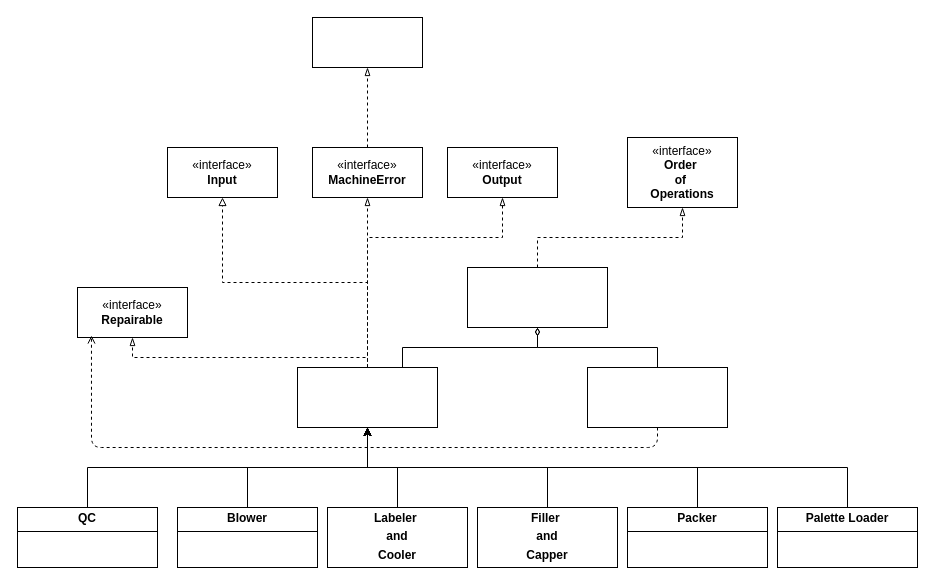
Image size: 935x585. Some labels were removed from this diagram. Each missing label, with the box of its shape:
Factory: (466, 266, 608, 328)
Machine: (296, 366, 438, 428)
Worker: (586, 366, 728, 428)
«interface» MTTR MTBF: (312, 16, 422, 68)
